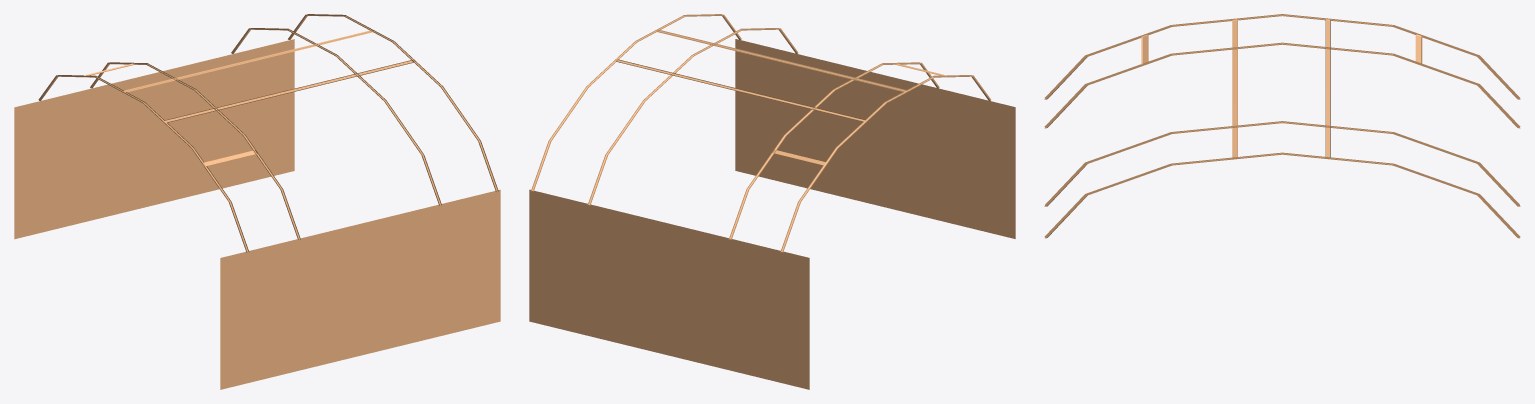
File: Wall Ceiling v2.fbx
3 renders of one model, left to right at view 1: azimuth 30°, elevation 25°; view 2: azimuth 150°, elevation 25°; view 3: azimuth 270°, elevation 25°, orthographic. The views are drawn at different scales.
Parts seen in each view (by area): view 1: Wall_Ceiling3; view 2: Wall_Ceiling3; view 3: Wall_Ceiling3.
Boxes of the visible parts, left/top/right/bottom form: Wall_Ceiling3: left=14, top=14, right=500, bottom=389; Wall_Ceiling3: left=529, top=14, right=1015, bottom=389; Wall_Ceiling3: left=1044, top=14, right=1520, bottom=238.
Bounding box in the file's own units: 58.86 × 41.29 × 76.04.
